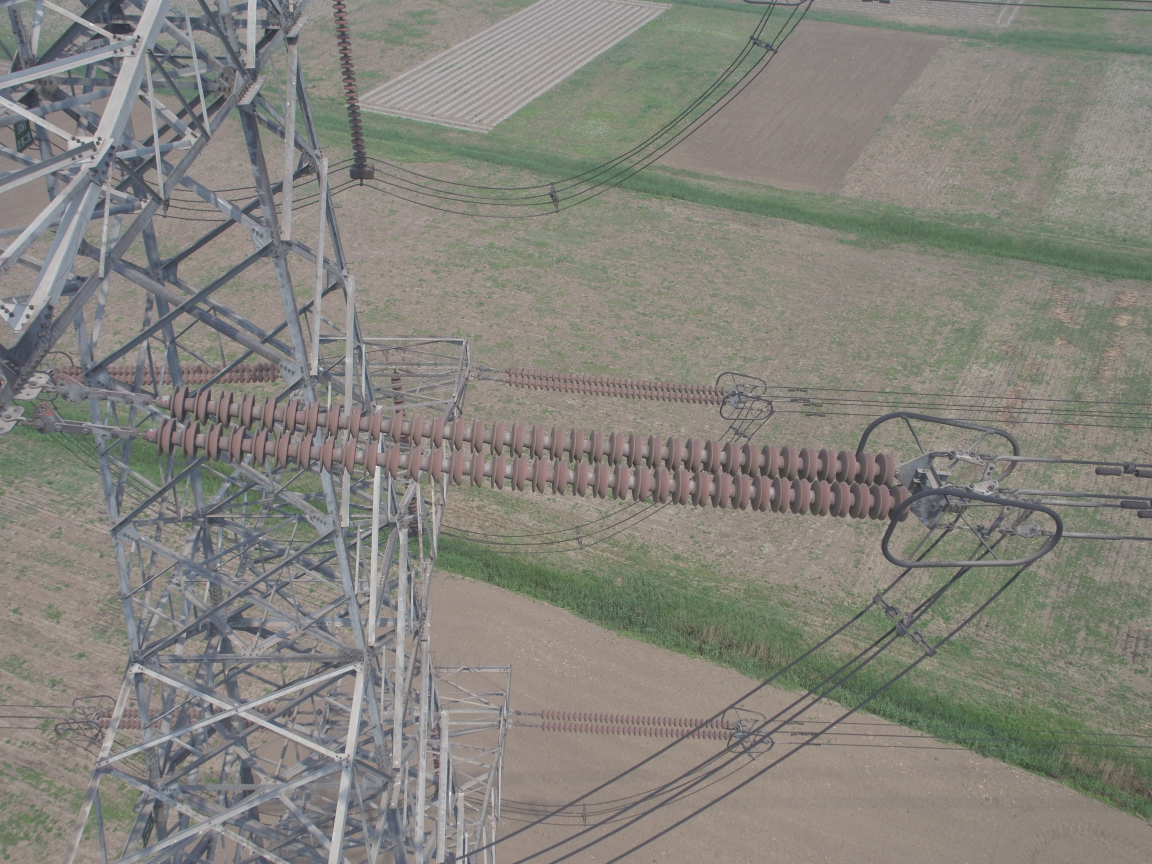insulator: (100, 381, 928, 524), (525, 707, 739, 741)
